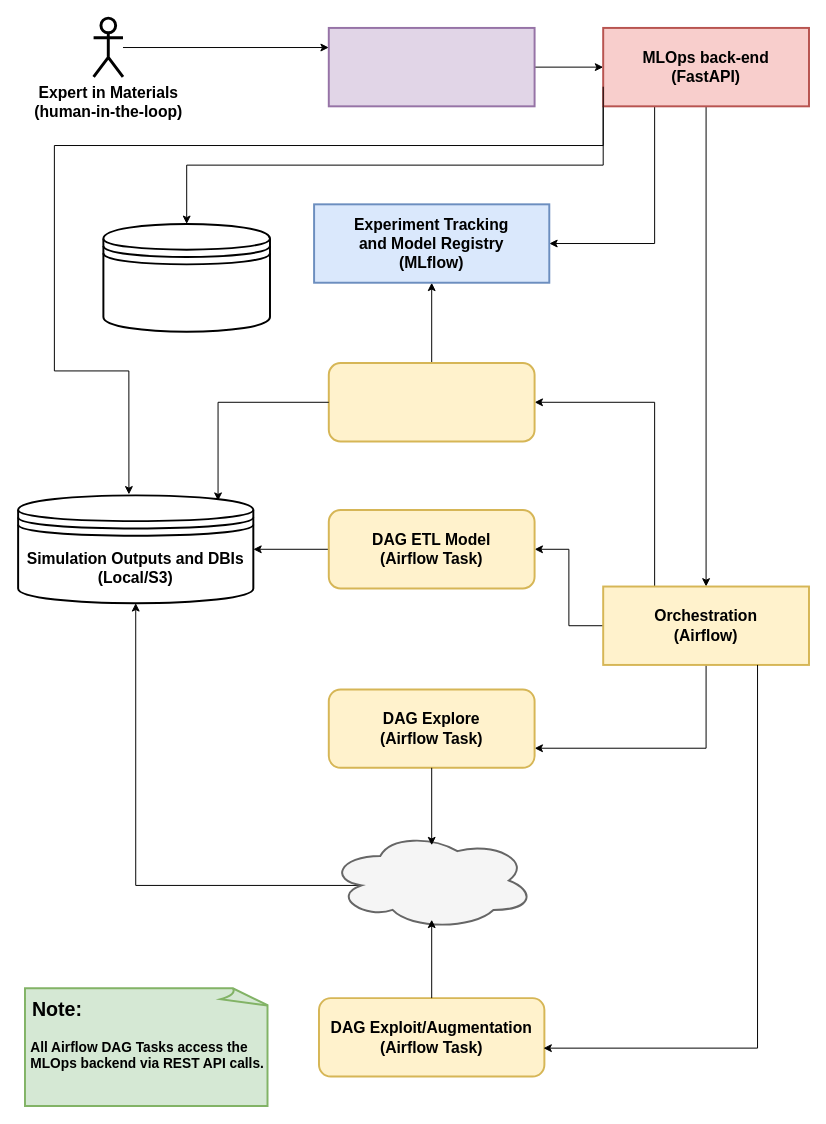
Image size: 826x1124. Some labels were removed from this diagram. Here are the shapes that lost their labels. From the top down, the centre of each, then its label:
At (x=431, y=66): "MLOps front-end (Streamlit)".
At (x=186, y=277): "Metadata DB (PostgreSQL)".
At (x=431, y=402): "DAG Evaluate Model (Airflow Task)".
At (x=431, y=880): "HPC resource".
